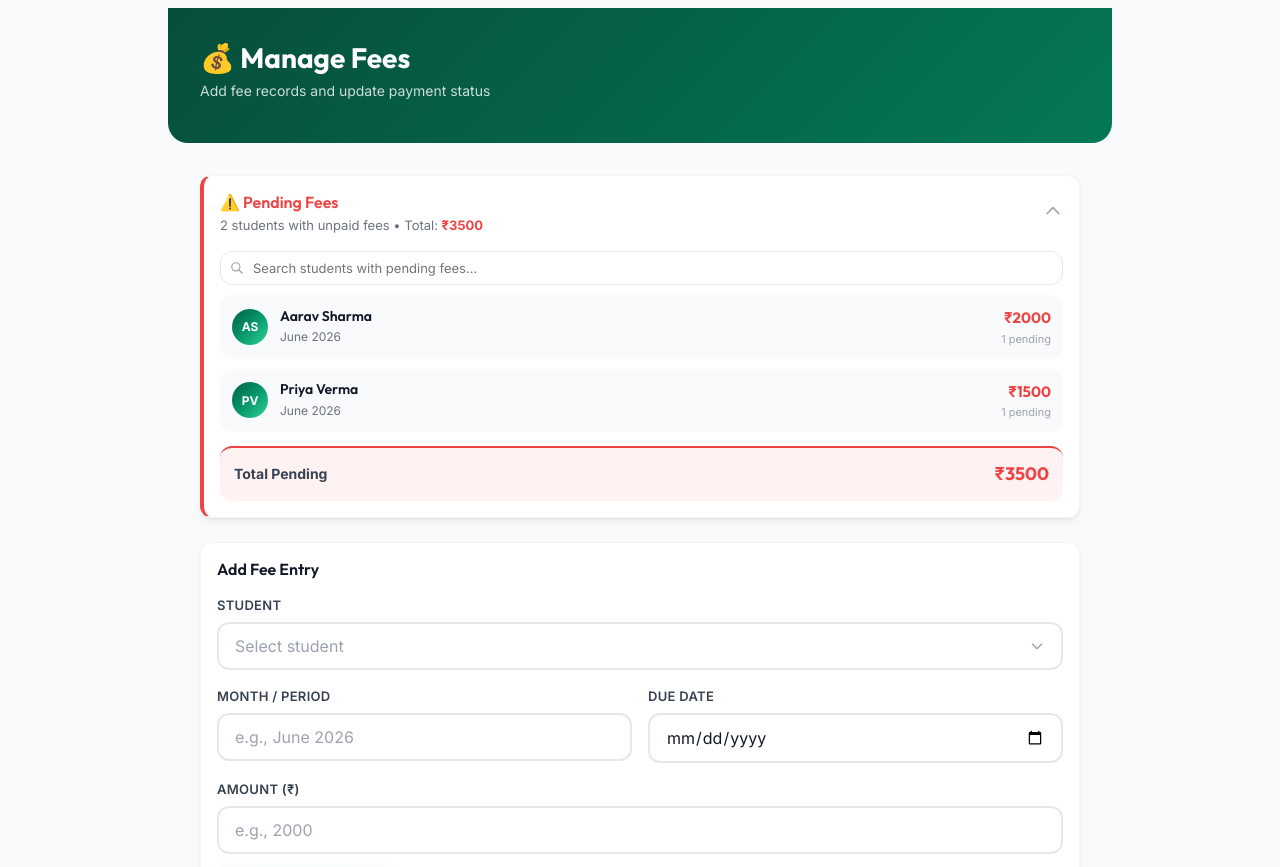
FeeForm — search inside the student picker › a selection can be cleared again
Check: the heading "Add Fee Entry" is shown, box left=217, top=558, right=319, bottom=578
Click the button with id "fee-student".
click(289, 646)  # box left=217, top=622, right=1063, bottom=670
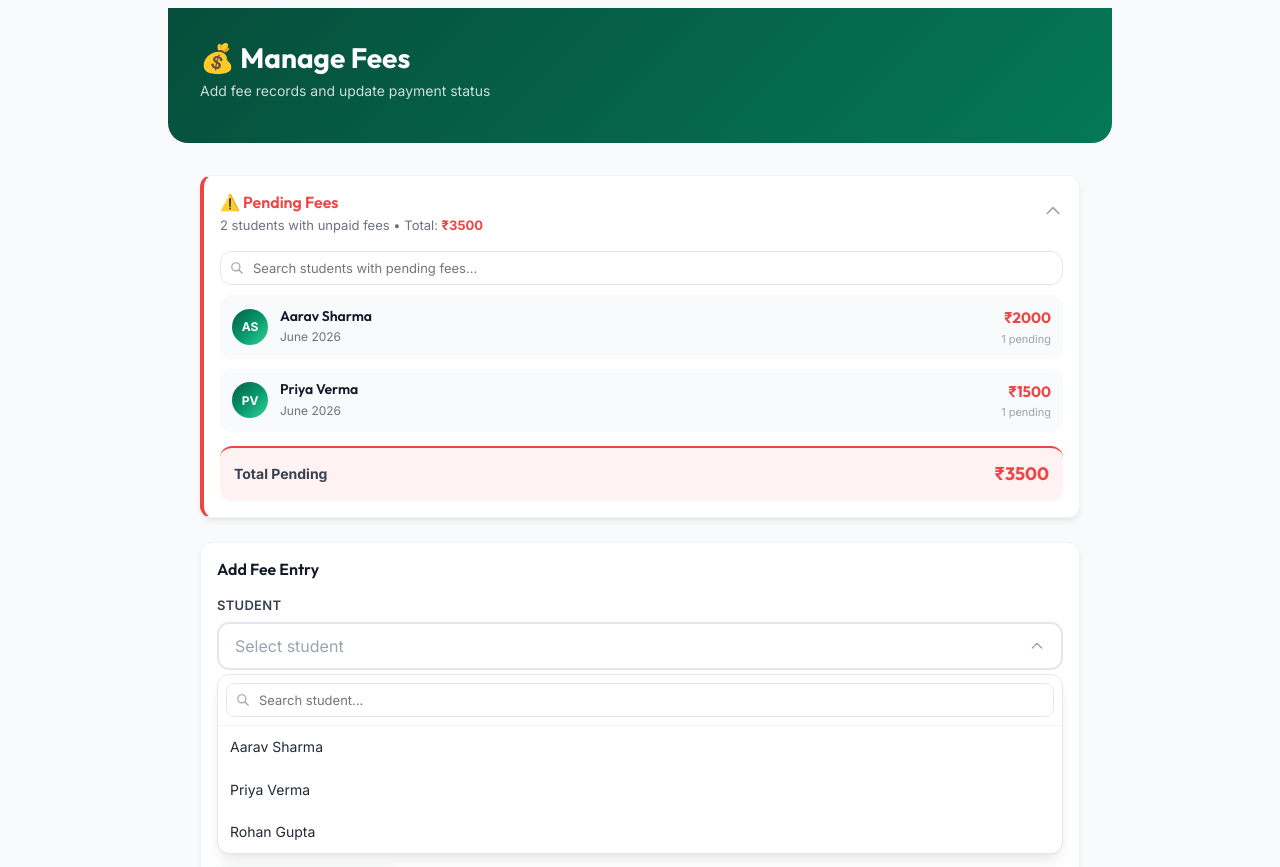
Click the option "Rohan Gupta".
click(273, 831)  # box left=230, top=823, right=315, bottom=840
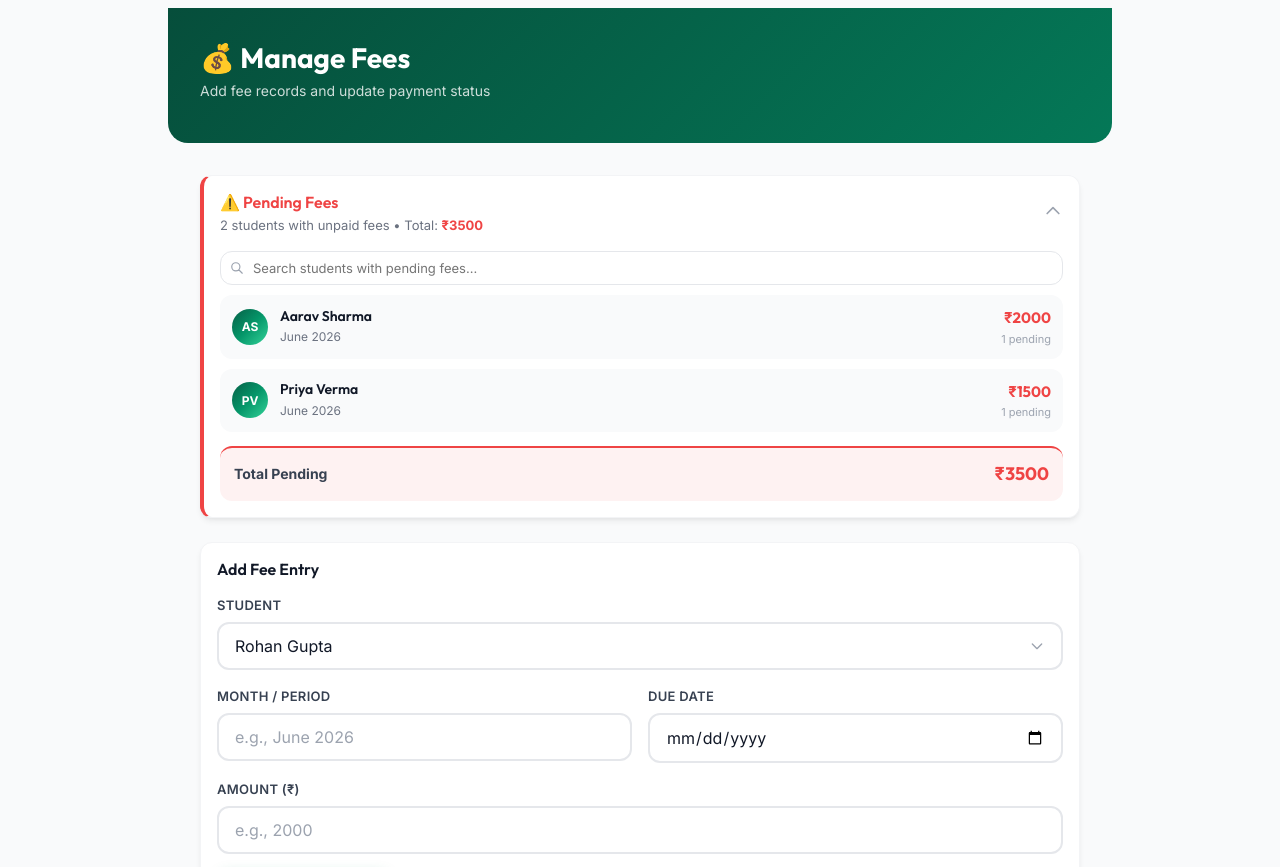
Click the button with id "fee-student".
click(284, 646)  # box left=217, top=622, right=1063, bottom=670
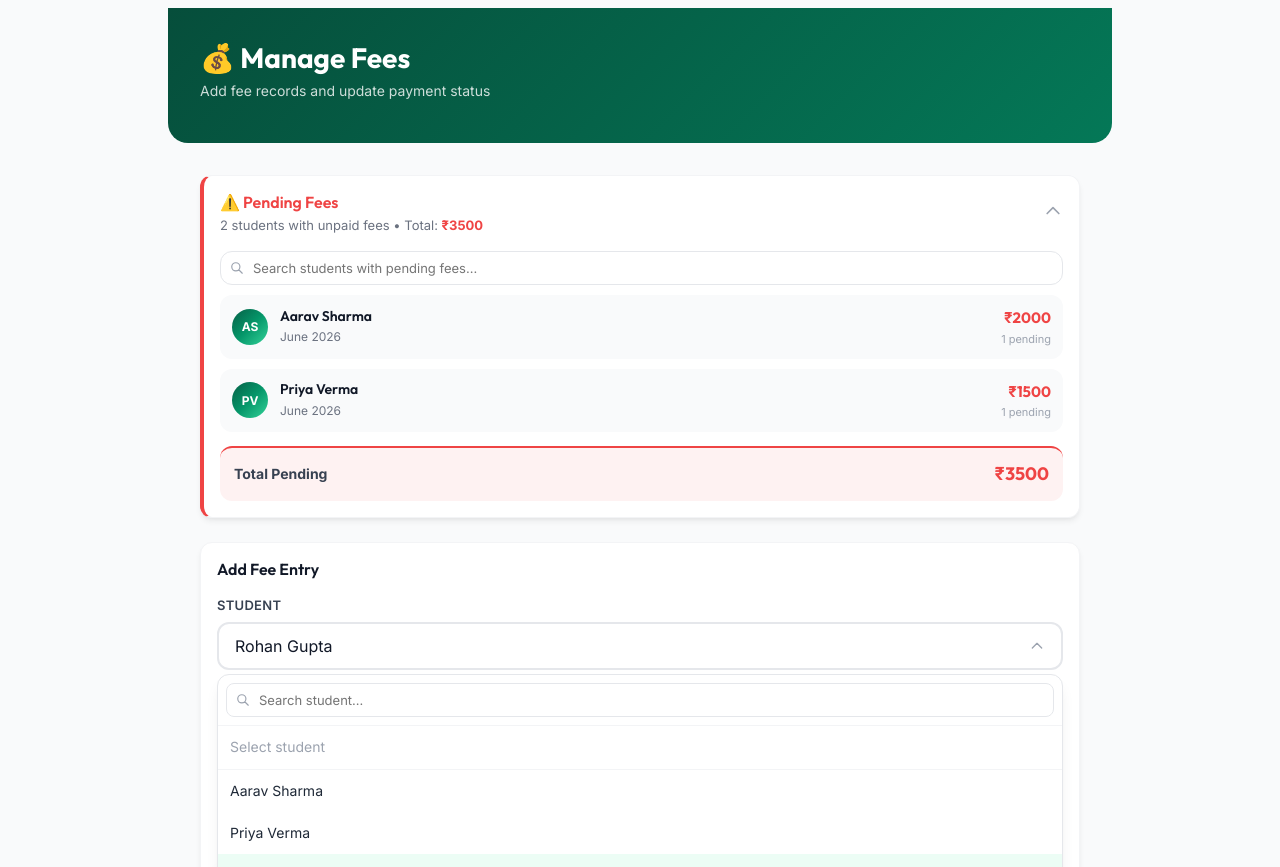
Click the option "Select student".
click(278, 747)  # box left=218, top=726, right=1062, bottom=770
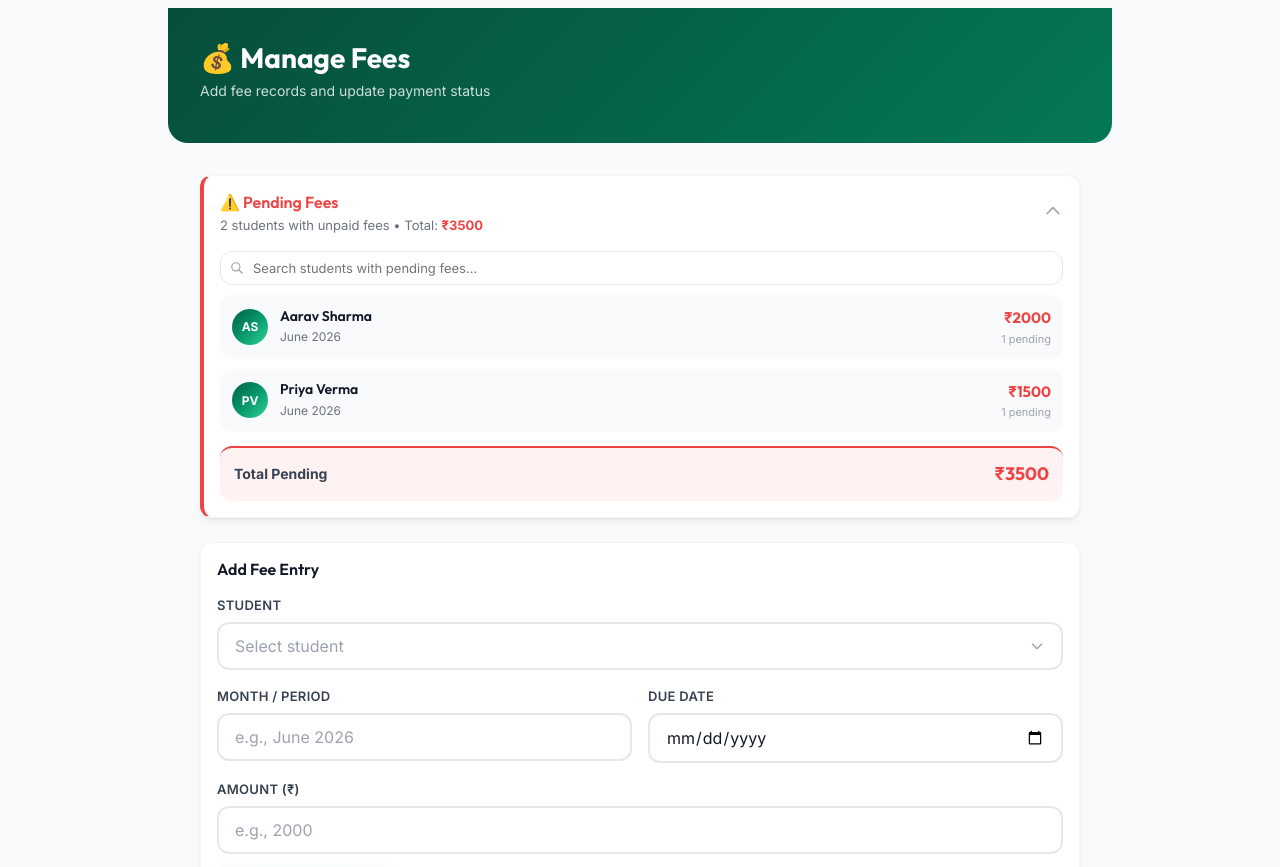
Check: the button with id "fee-student" reads "Select student", box left=217, top=622, right=1063, bottom=670
